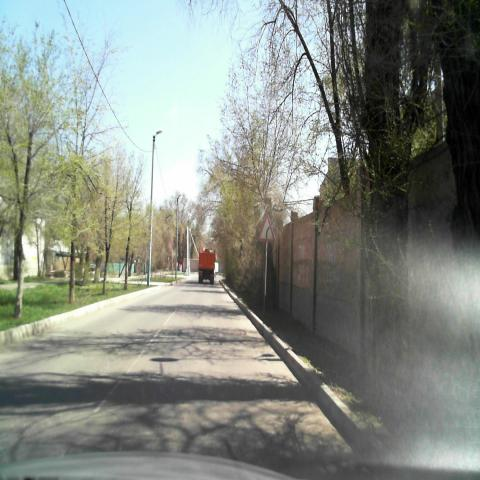1_11: (258, 213, 276, 242)
